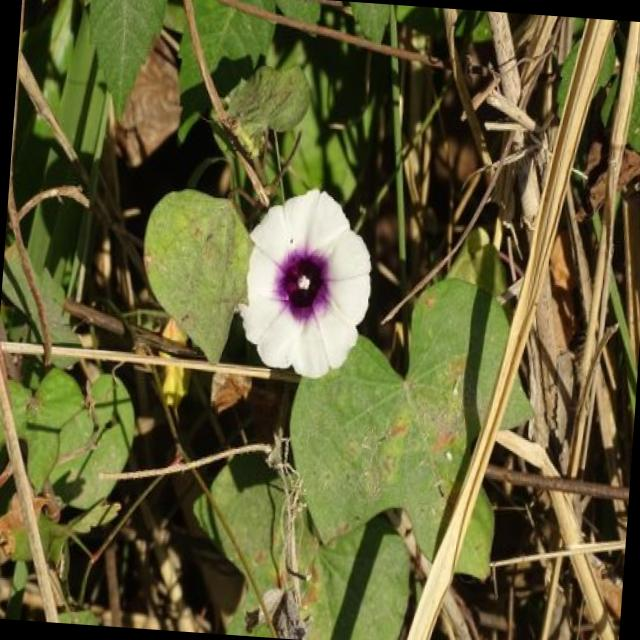ipomoea: (232, 180, 381, 386)
